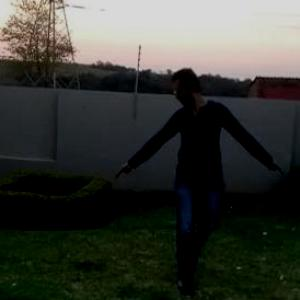land: (112, 60, 294, 297)
